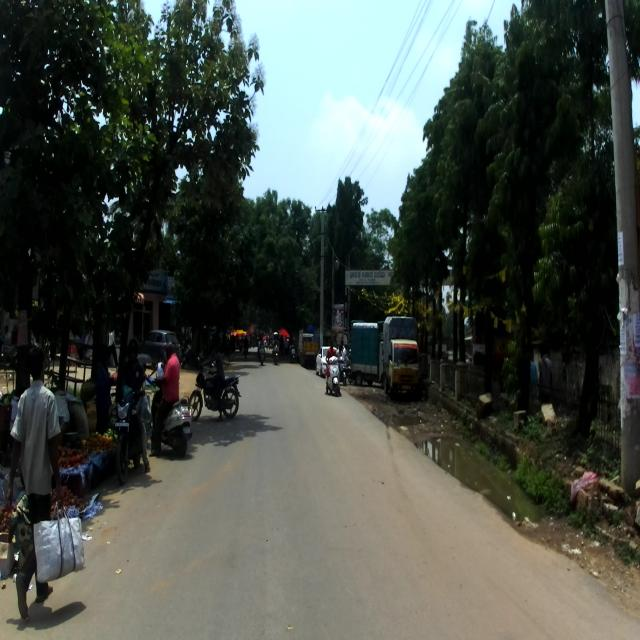motorcycle_Hero: (188, 358, 240, 418)
motorcycle_TVS: (108, 384, 147, 484)
scooter: (150, 374, 193, 452), (325, 352, 341, 395)
